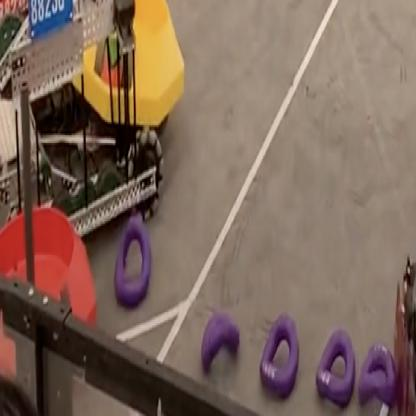ring: (114, 215, 151, 307), (260, 310, 298, 396), (315, 327, 355, 406), (200, 310, 240, 374), (358, 343, 395, 406)
